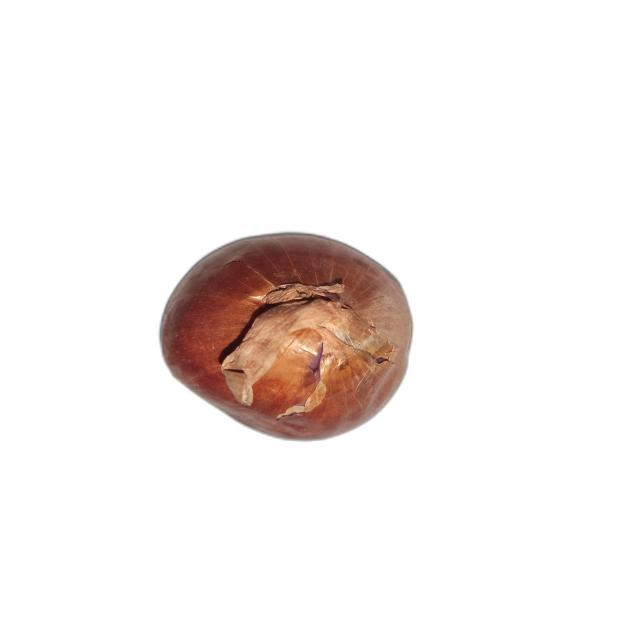onion: (157, 230, 416, 442)
